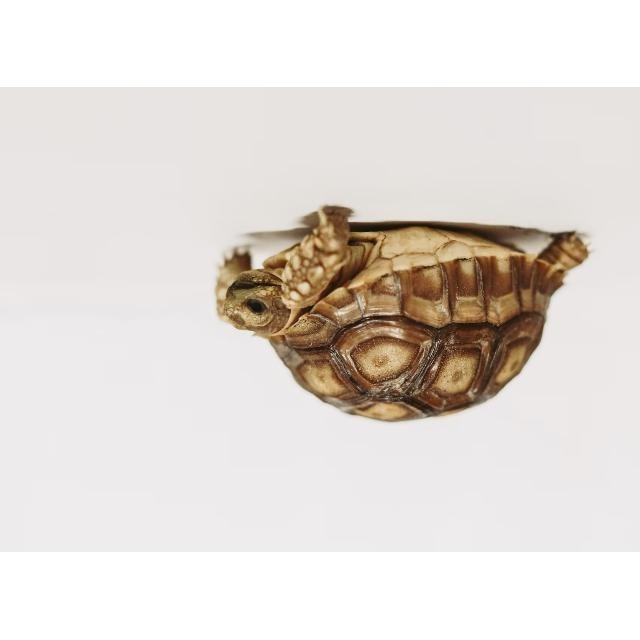turtle: (212, 205, 592, 426)
